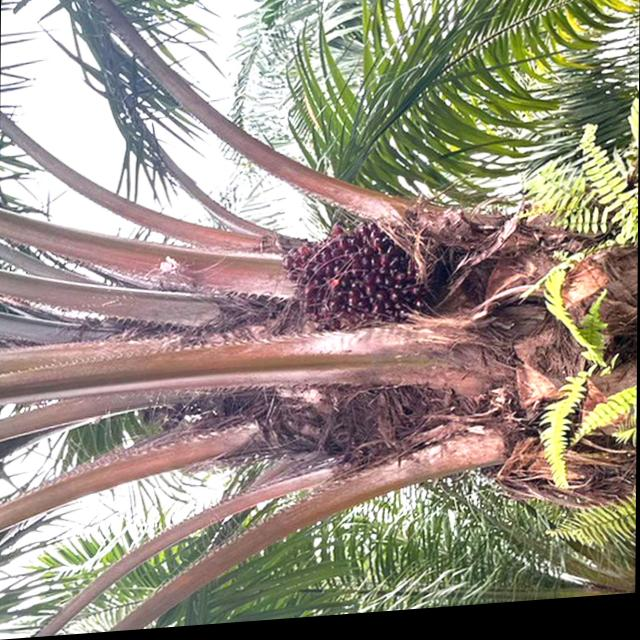ripe: (264, 215, 431, 345)
